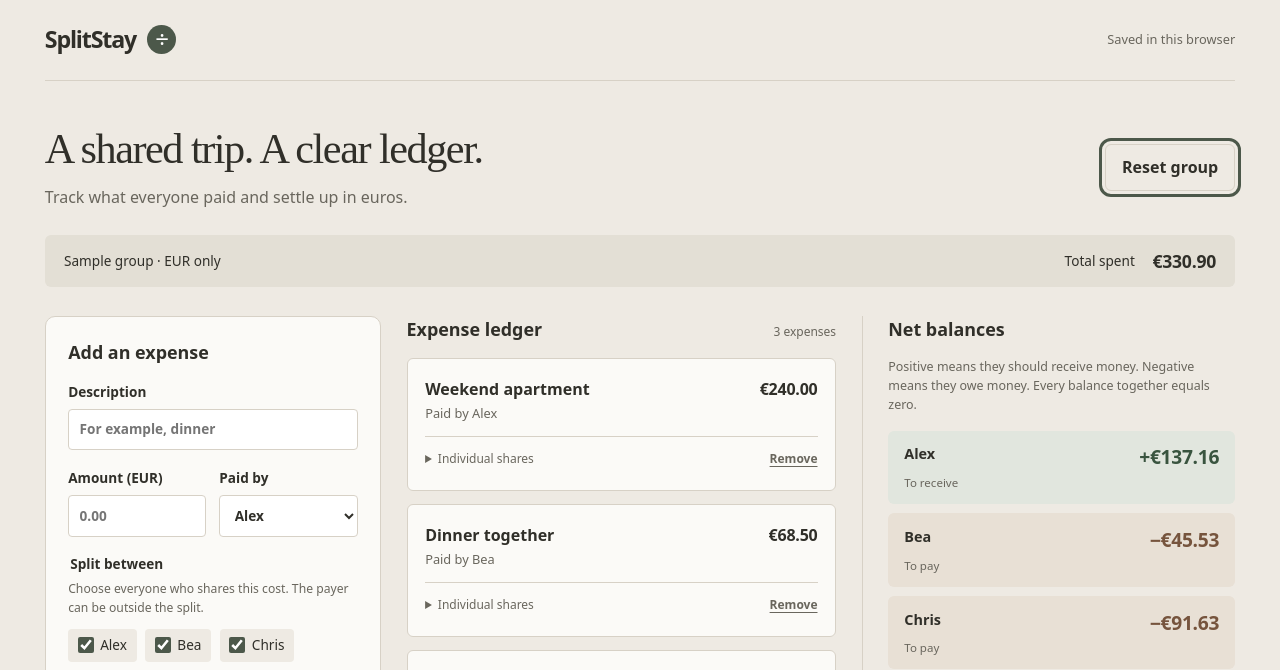
Test case: keeps pending reset focus contained and restores the enabled opener after saving
Click the button "Reset group" at (1170, 167), box [1105,144,1235,191]
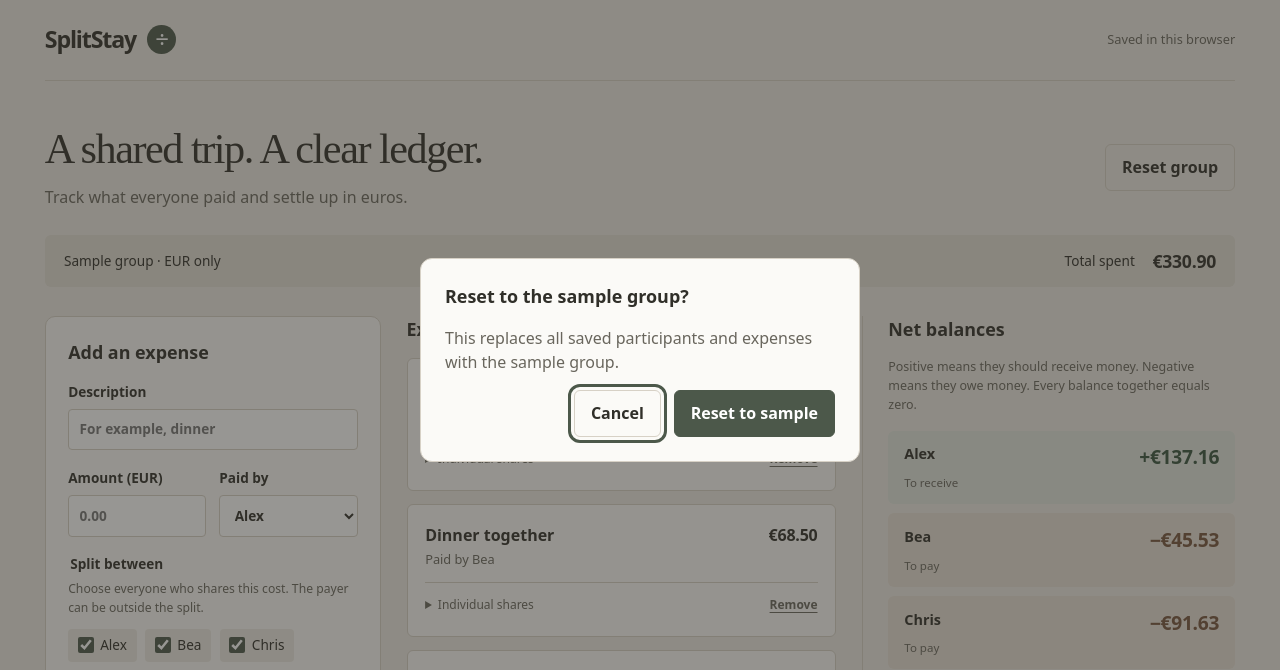
Click the button "Reset to sample" at (754, 413), box [674,390,835,437]
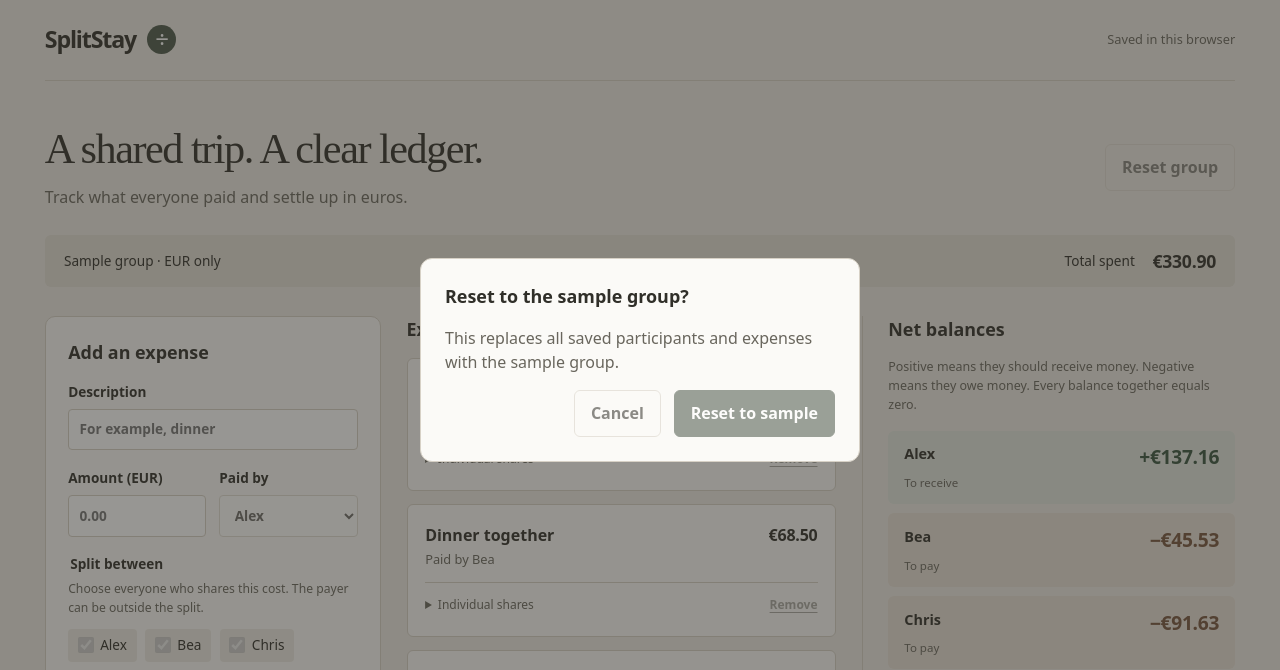
Result: the button "Reset group" is disabled at [1105,144,1235,191]
Press Tab in the dialog, box [420,258,860,462]
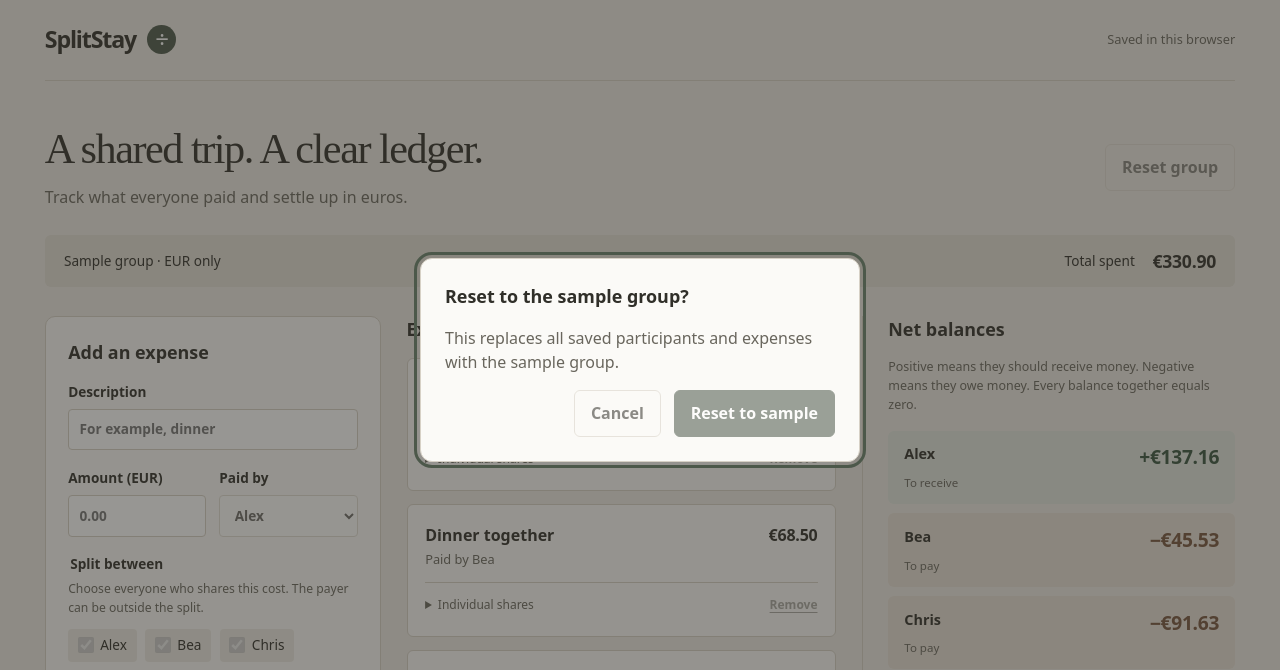
Press Tab in the dialog, box [420,258,860,462]
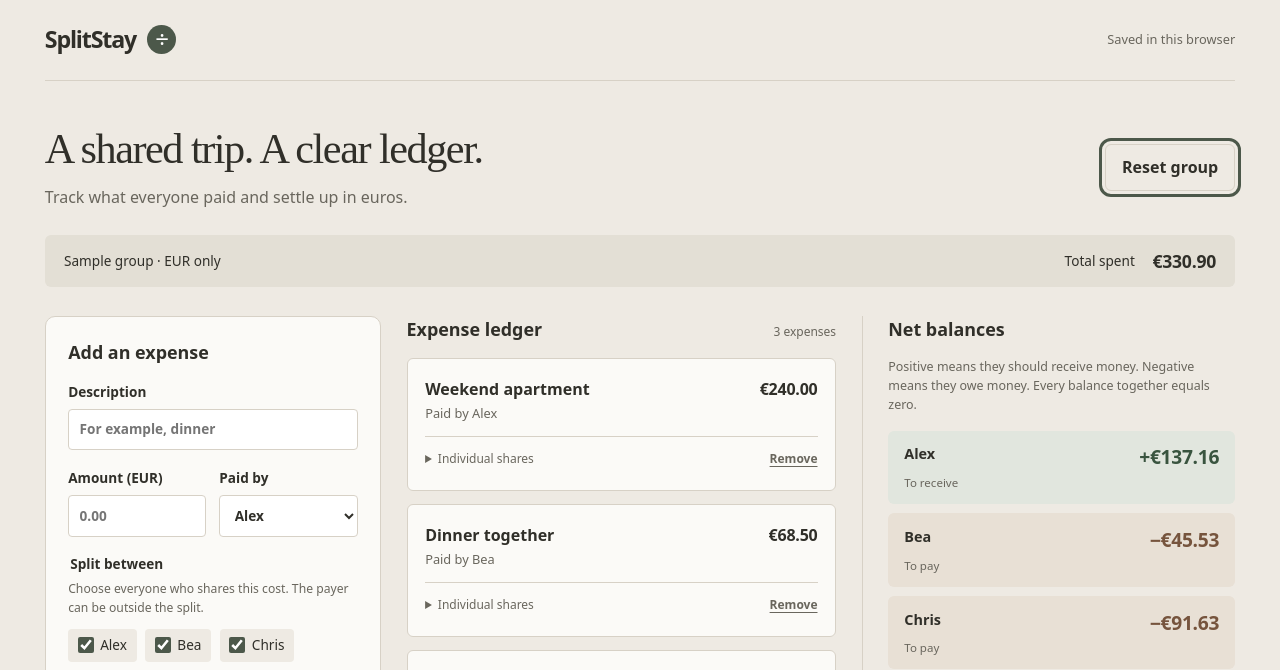
Result: the dialog is gone
Result: the button "Reset group" is enabled at [1105,144,1235,191]
